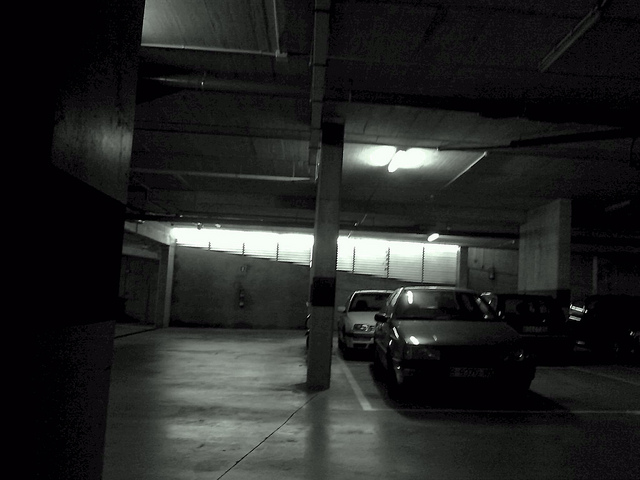car: (367, 278, 544, 408)
